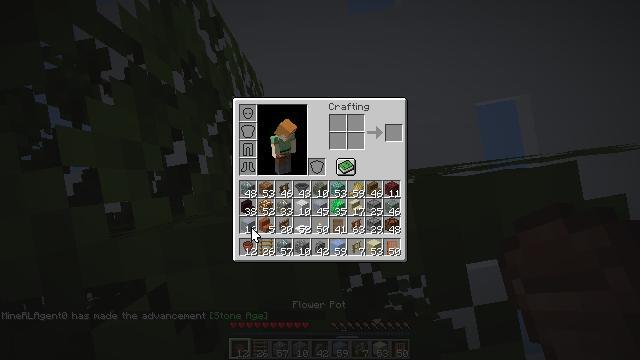cursor: (227, 251, 243, 261)
